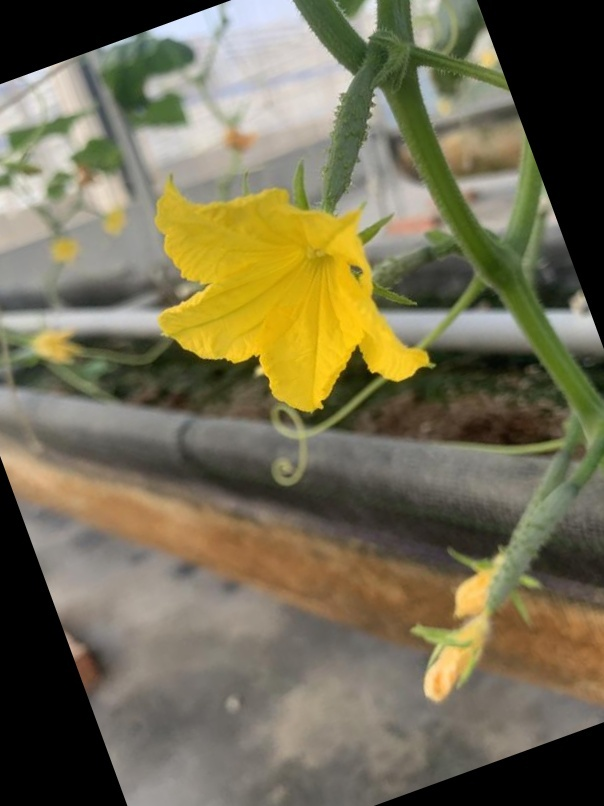flowering: (148, 64, 441, 432)
